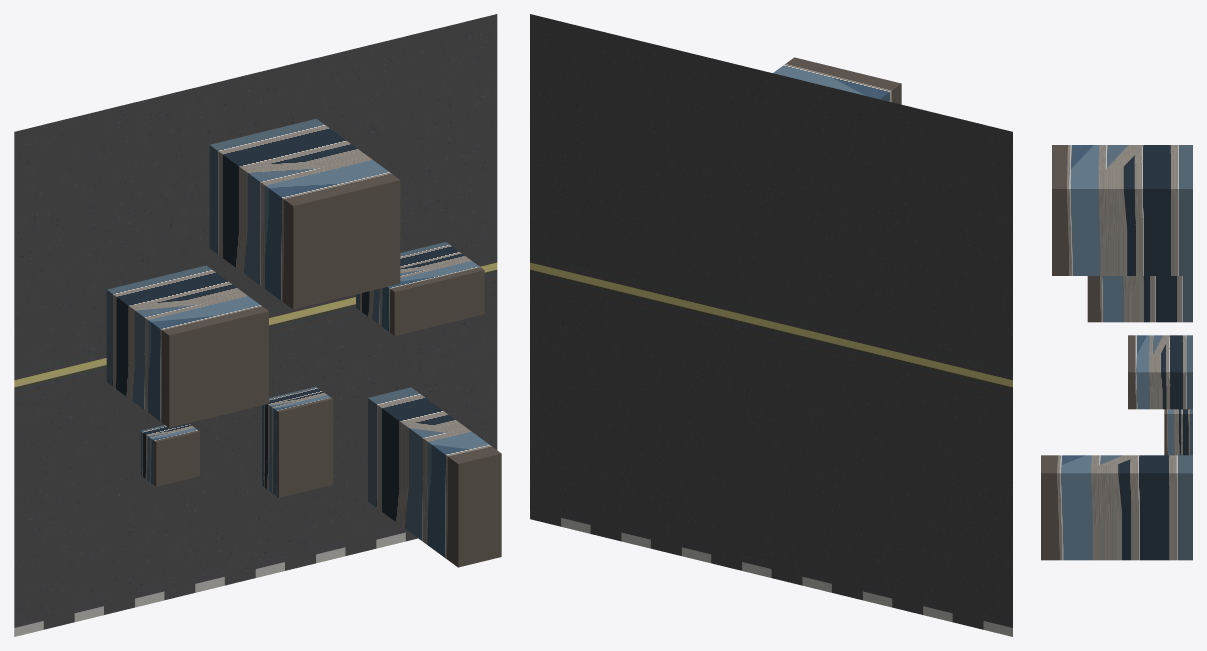
The picture shows the model from 3 angles, left to right: view 1: azimuth 30°, elevation 25°; view 2: azimuth 150°, elevation 25°; view 3: azimuth 270°, elevation 25°; orthographic projection. The views are drawn at different scales.
Bounding box in the file's own units: 119 × 119 × 38.64.
2 materials, 2 textured.
